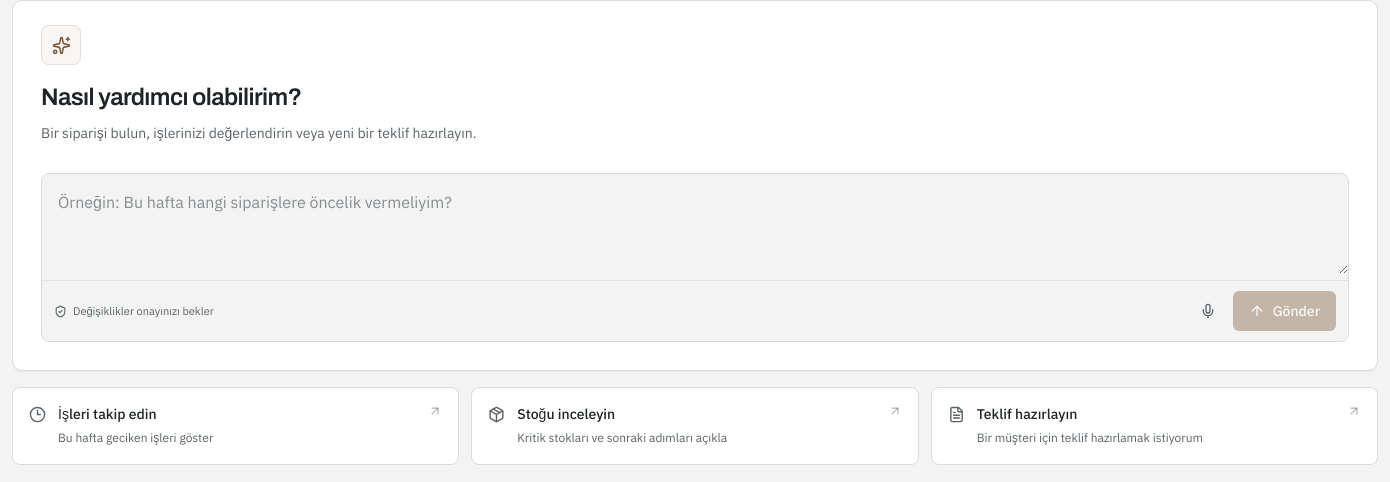
it: fills an editable example without executing or creating a preview
Click the button "Stoğu inceleyin Kritik stokları ve sonraki adımları açıkla" at (566, 414), box [471,387,919,465]
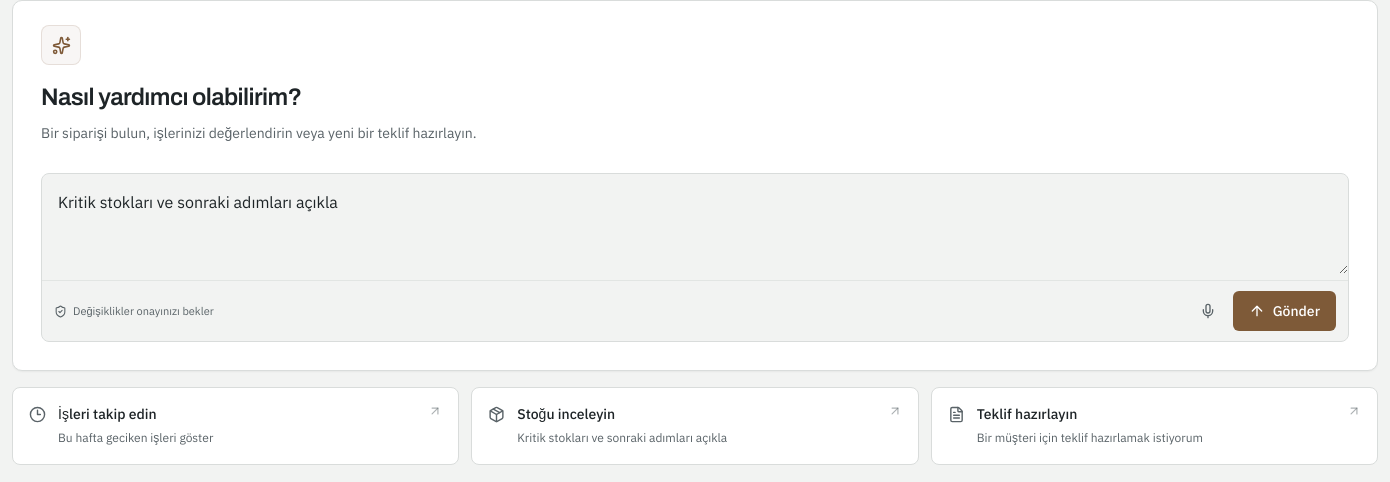
Now the text box named "Komut" holds "Kritik stokları ve sonraki adımları açıkla", box [42,174,1348,274]
